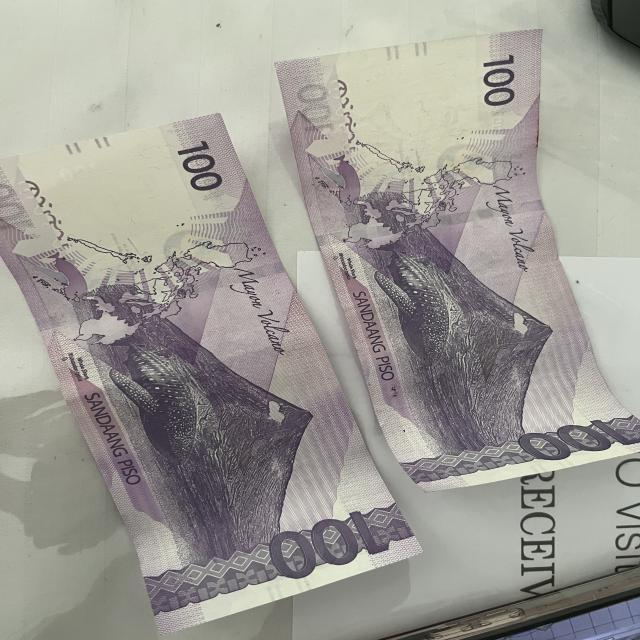100_whale: (108, 318, 219, 479), (365, 223, 464, 376)
100_whale_watermark: (23, 240, 98, 312), (313, 148, 367, 216)
watermark: (327, 50, 503, 160)
